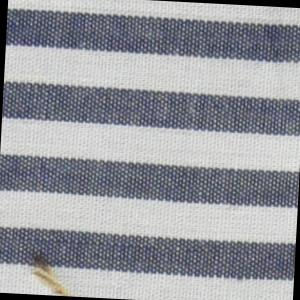Oil Stain: (24, 248, 76, 298)
